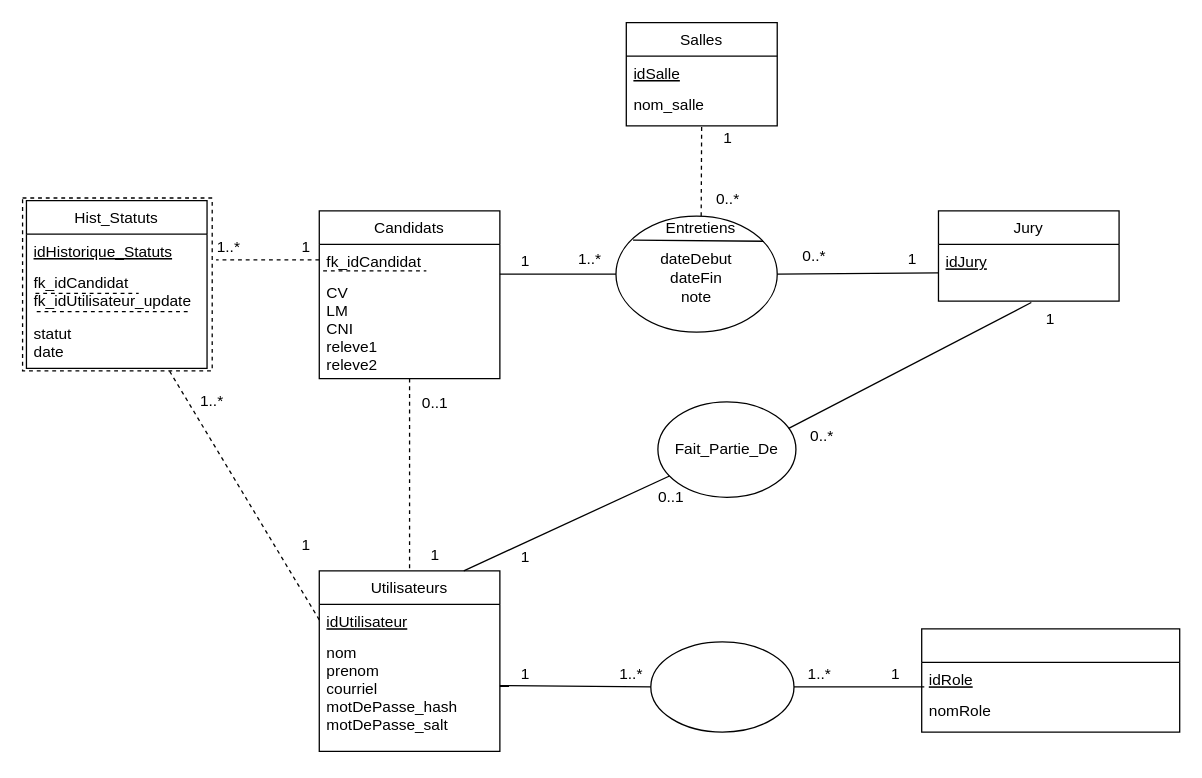
Image size: 1202x778. Some labels were removed from this diagram. The box of each missing label's shape, as (x1, y1, x2, y2) in pixels:
Possede: (650, 640, 794, 732)
Roles: (920, 628, 1180, 732)
